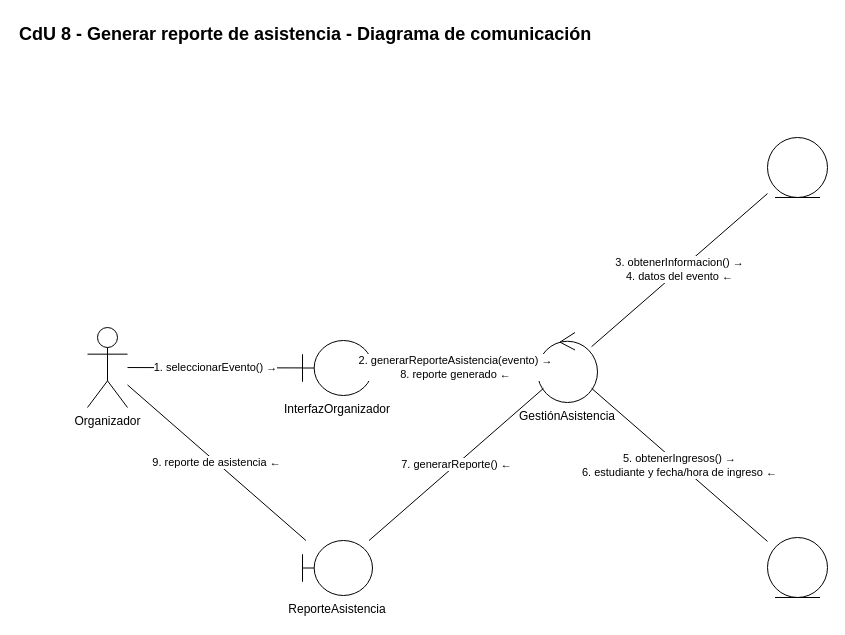
The diagram is 845 pixels wide and 635 high, and some of its shapes have lost their labels. Here are the shapes that lost their labels. From the top down, the box of each, then its label:
(766, 136, 828, 198): Evento
(766, 536, 828, 598): Asistencia
